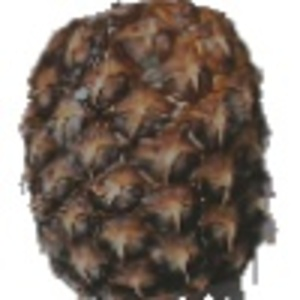abacaxi: (17, 3, 271, 294)
